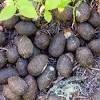Elk: (1, 19, 99, 57), (2, 57, 70, 95)
